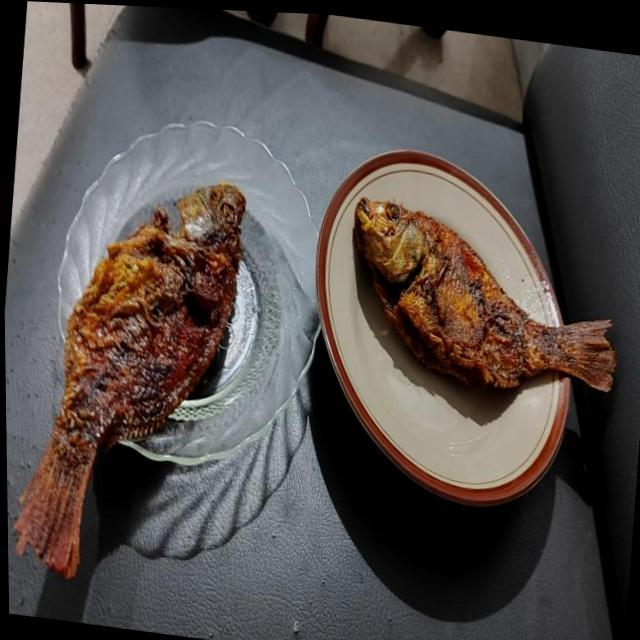ikan_mujair: (13, 182, 245, 576), (353, 197, 615, 391)
